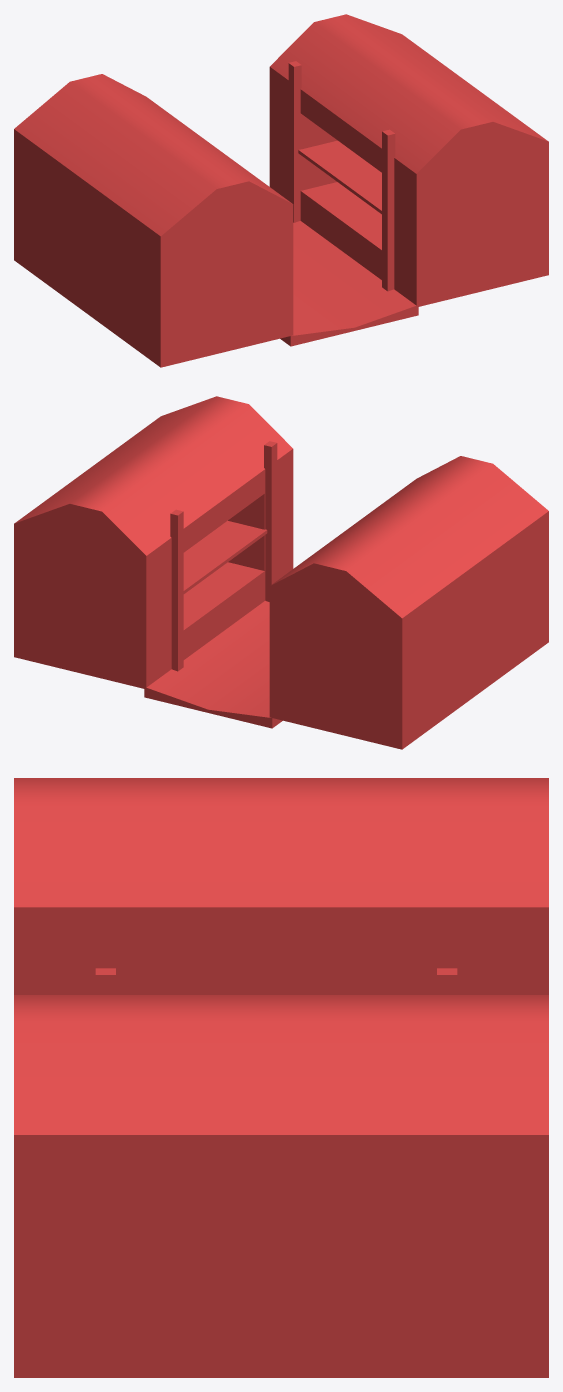
Rendered from Ground_Bed_COL.fbx.
3 views of the same model, one above another, from view 1: azimuth 30°, elevation 25°; view 2: azimuth 150°, elevation 25°; view 3: azimuth 270°, elevation 25° (orthographic). The views are drawn at different scales.
Parts seen in each view (by area): view 1: Ground_Bed_COL; view 2: Ground_Bed_COL; view 3: Ground_Bed_COL.
Part boxes in pixels (x1,y1,x2,y2): Ground_Bed_COL: (14,14,548,367); Ground_Bed_COL: (14,396,548,749); Ground_Bed_COL: (14,778,548,1377).
Size of the model in its own units: 611 by 264 by 400.
